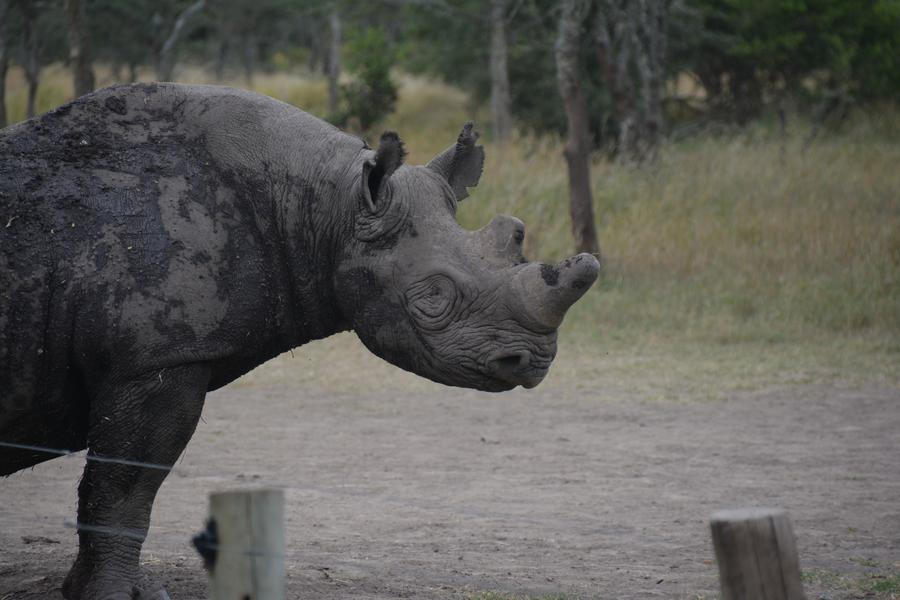rhino: (11, 59, 550, 485)
